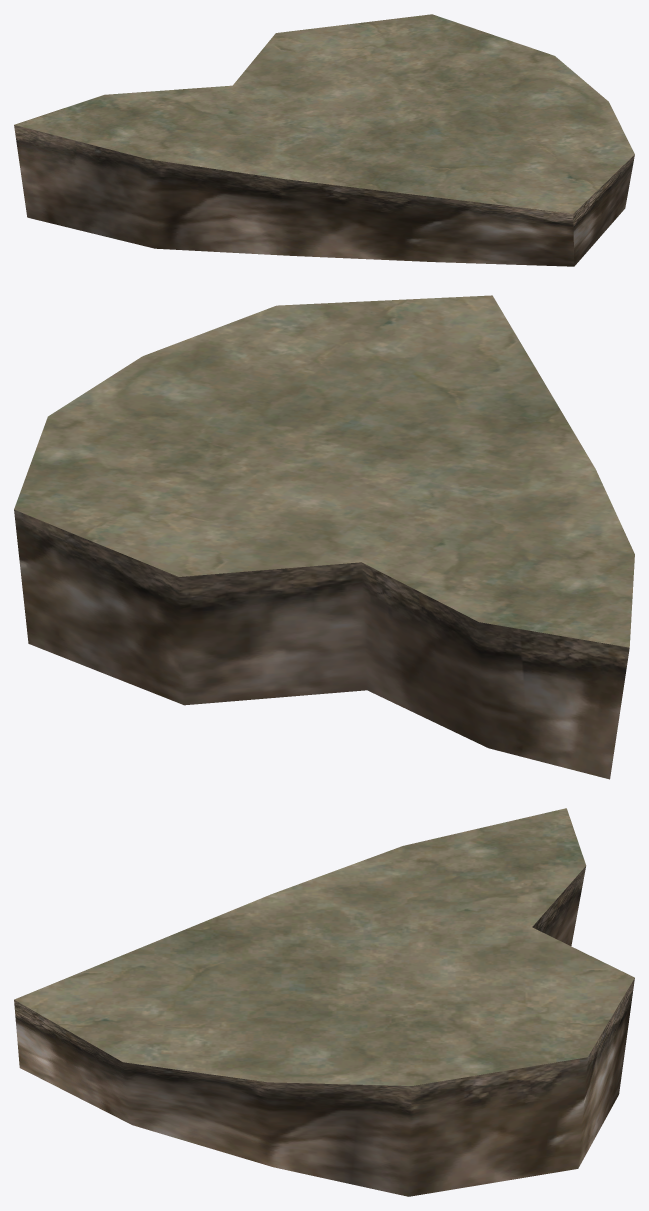
Rendered from ANIMATEDINSTANCES_ROCKFALL_01__BA.fbx.
The picture shows the model from 3 angles, top to bottom: view 1: azimuth 30°, elevation 25°; view 2: azimuth 150°, elevation 25°; view 3: azimuth 270°, elevation 25°; orthographic projection. The views are drawn at different scales.
Visible parts, largest first — view 1: ANIMATEDINSTANCES_ROCKFALL_01__BA; view 2: ANIMATEDINSTANCES_ROCKFALL_01__BA; view 3: ANIMATEDINSTANCES_ROCKFALL_01__BA.
Part boxes in pixels (box(x1,y1,x2,y2)): ANIMATEDINSTANCES_ROCKFALL_01__BA: box(14, 14, 634, 266); ANIMATEDINSTANCES_ROCKFALL_01__BA: box(14, 295, 634, 779); ANIMATEDINSTANCES_ROCKFALL_01__BA: box(14, 808, 634, 1196).
Size of the model in its own units: 25091 by 4850 by 23687.
Materials: 2 (2 with a texture image).
